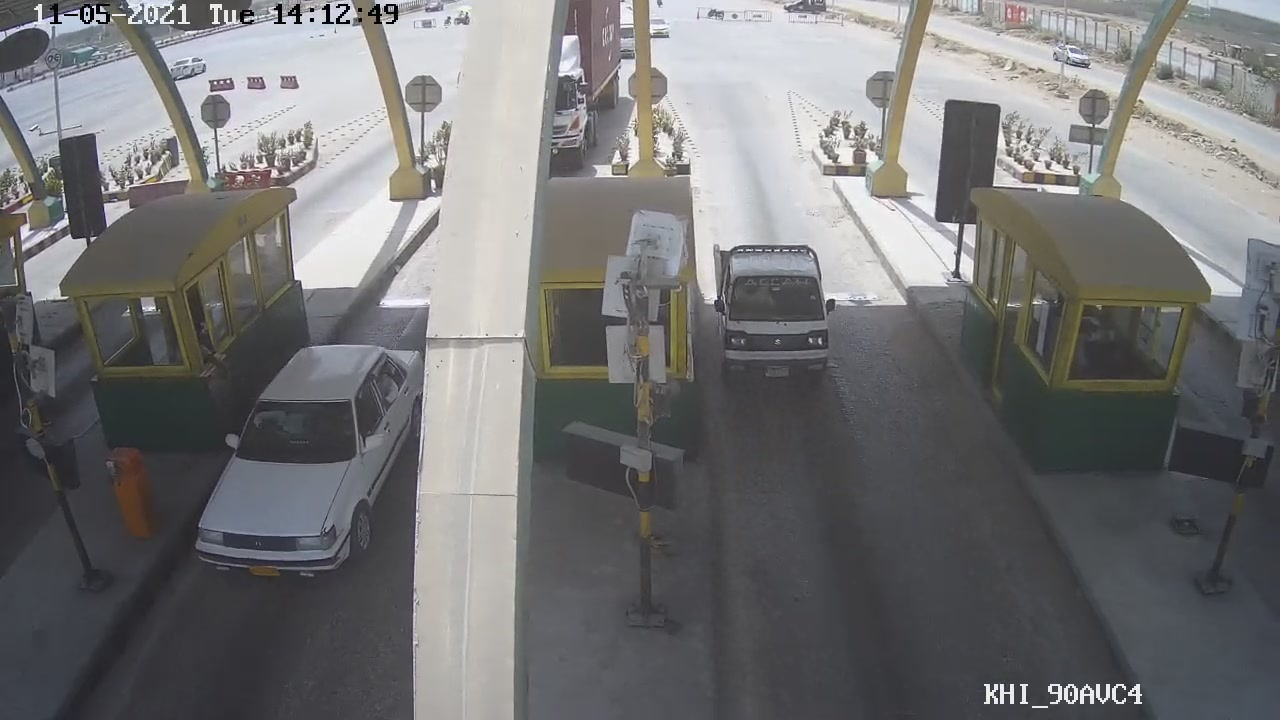F1: (709, 237, 841, 387)
